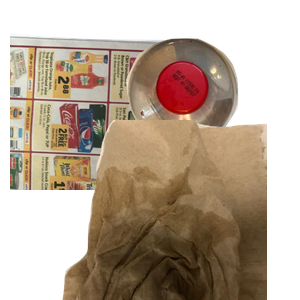glass: (66, 120, 279, 300)
paper: (10, 31, 214, 211)
plastic: (124, 36, 300, 175)
trash: (60, 120, 300, 300)
